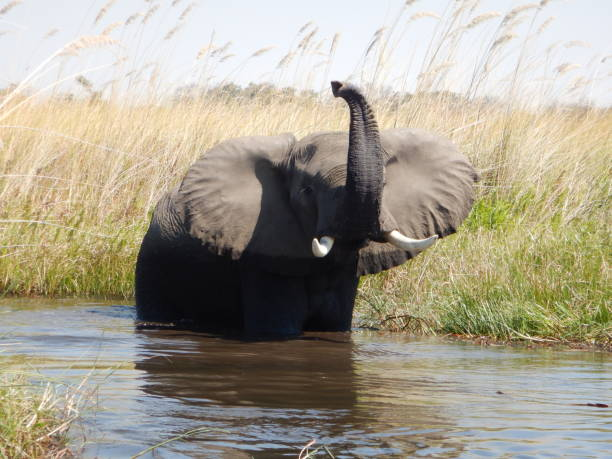africanelephant: (237, 83, 453, 299)
